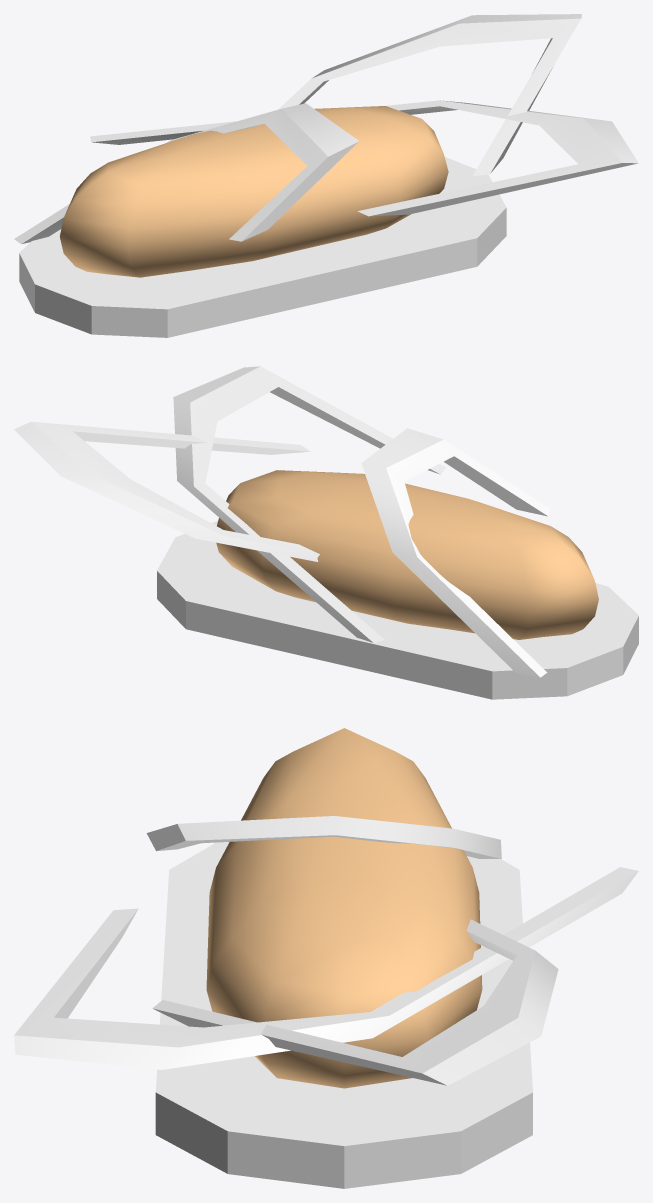
File: zeus_foot.fbx
3 renders of one model, top to bottom at view 1: azimuth 30°, elevation 25°; view 2: azimuth 150°, elevation 25°; view 3: azimuth 270°, elevation 25°, orthographic. The views are drawn at different scales.
Visible parts, largest first — view 1: foot, sandal, pCube1, pCube2, pCube4; view 2: foot, sandal, pCube1, pCube4, pCube2; view 3: foot, sandal, pCube1, pCube2, pCube4.
Part boxes in pixels (box(x1,y1,x2,y2)): foot: box(59, 106, 448, 277); sandal: box(19, 157, 506, 337); pCube1: box(90, 100, 638, 216); pCube2: box(278, 14, 581, 176); pCube4: box(14, 103, 359, 244); foot: box(216, 470, 598, 639); sandal: box(157, 520, 638, 699); pCube1: box(173, 366, 445, 642); pCube4: box(361, 428, 549, 677); pCube2: box(14, 421, 319, 561); foot: box(206, 728, 482, 1088); sandal: box(155, 842, 532, 1188); pCube1: box(14, 867, 638, 1069); pCube2: box(152, 919, 558, 1085); pCube4: box(146, 816, 501, 858).
Bounding box in the file's own units: 5.44 × 1.32 × 3.39.
